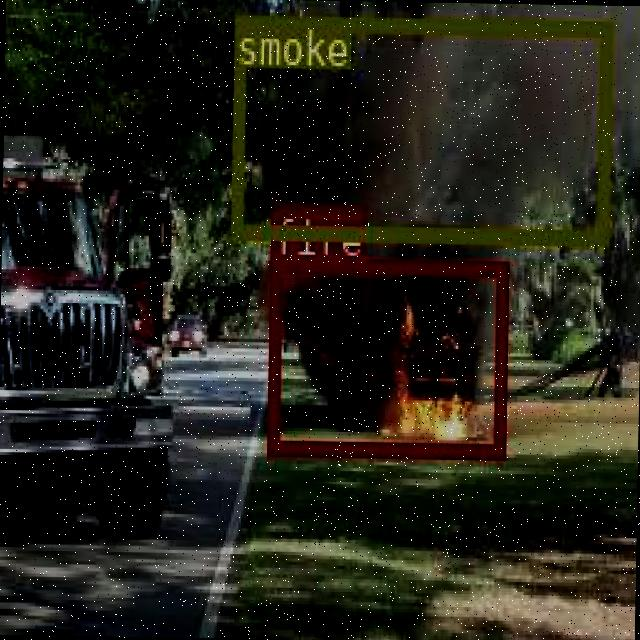fire: (266, 255, 506, 455)
smoke: (228, 14, 610, 243)
